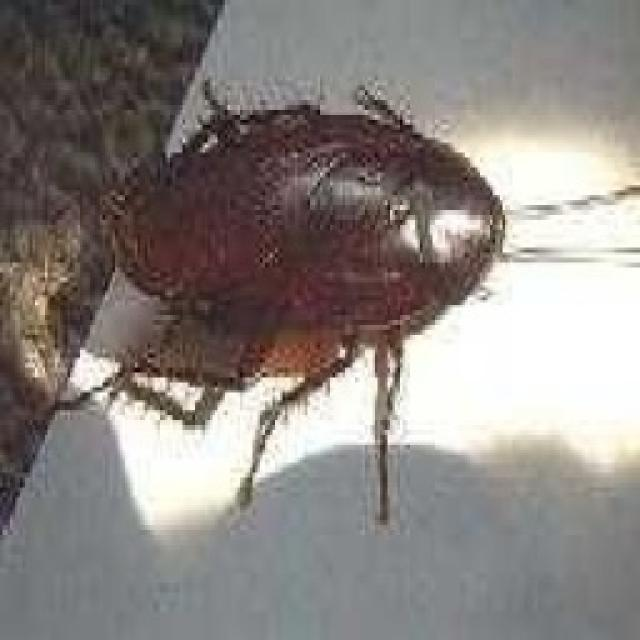cockroach: (97, 90, 509, 388)
